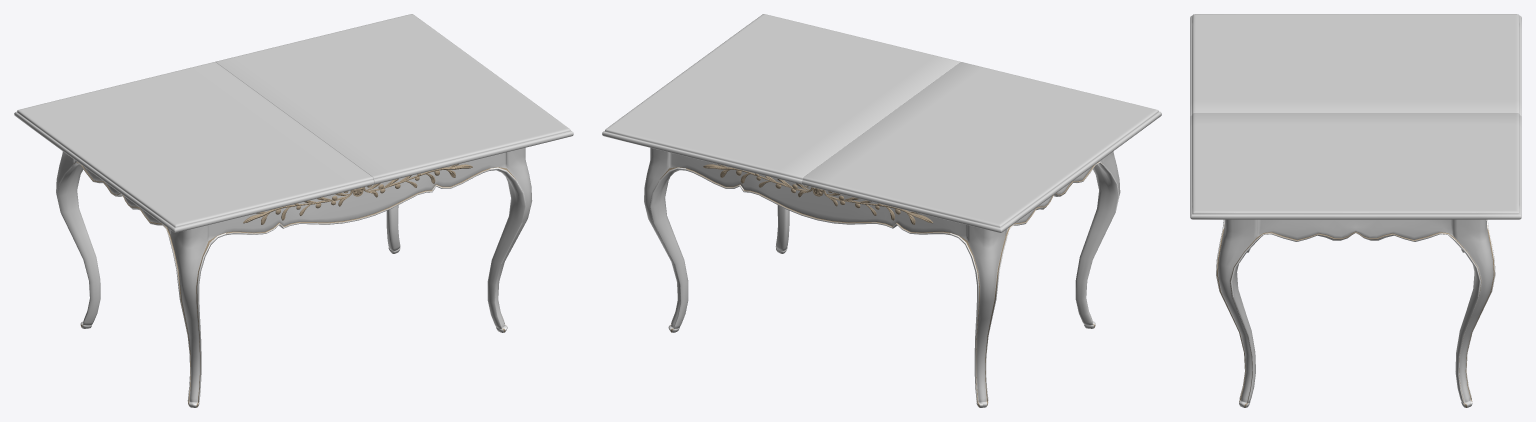
The model's file is 签到桌.FBX.
3 renders of one model, left to right at view 1: azimuth 30°, elevation 25°; view 2: azimuth 150°, elevation 25°; view 3: azimuth 270°, elevation 25°, orthographic. The views are drawn at different scales.
Parts seen in each view (by area): view 1: Rectangle02, nogi, Circle01; view 2: Rectangle02, nogi, Circle02; view 3: Rectangle02, nogi.
Part boxes in pixels (x1,y1,x2,y2): Rectangle02: (14, 14, 573, 232); nogi: (56, 147, 532, 407); Circle01: (243, 164, 472, 224); Rectangle02: (602, 14, 1161, 232); nogi: (644, 148, 1120, 407); Circle02: (703, 164, 932, 224); Rectangle02: (1190, 14, 1521, 219); nogi: (1216, 219, 1495, 407).
Bounding box in the file's own units: 152 × 76.27 × 106.
